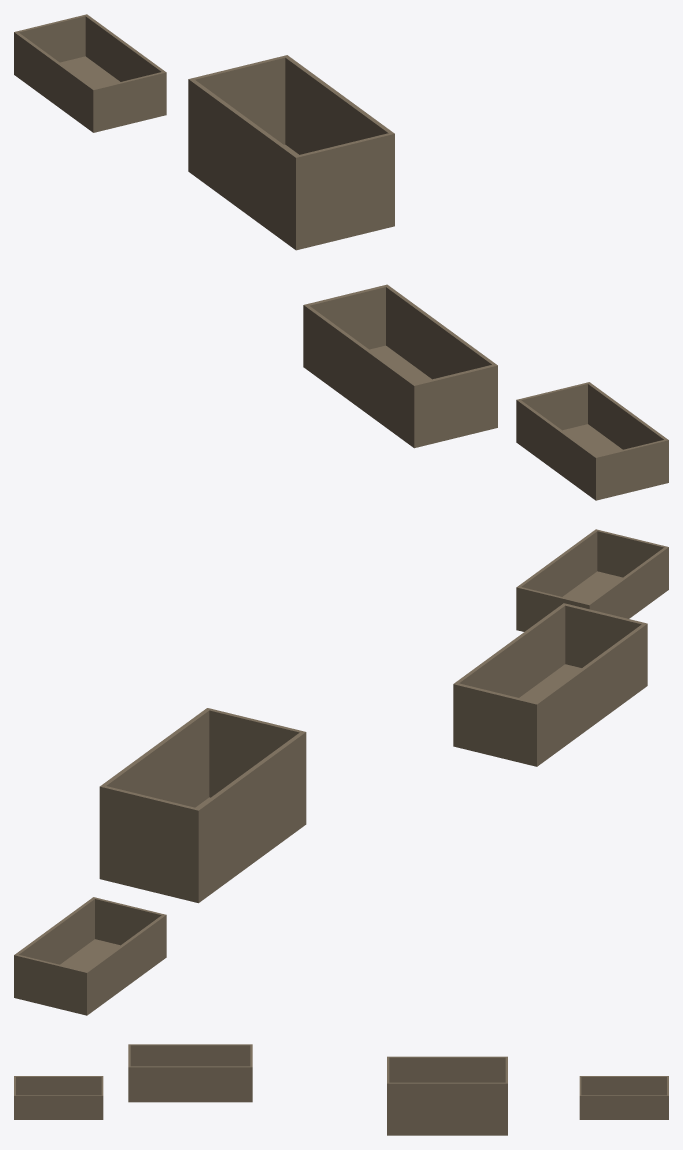
The picture shows the model from 3 angles, top to bottom: view 1: azimuth 30°, elevation 25°; view 2: azimuth 150°, elevation 25°; view 3: azimuth 270°, elevation 25°; orthographic projection. The views are drawn at different scales.
Parts seen in each view (by area): view 1: Cube.031, Cube.042, Cube.035, Cube.047; view 2: Cube.031, Cube.042, Cube.035, Cube.047; view 3: Cube.031, Cube.042, Cube.035, Cube.047.
Part boxes in pixels (x1,y1,x2,y2): Cube.031: (188, 55, 394, 250); Cube.042: (303, 284, 497, 448); Cube.035: (14, 14, 166, 132); Cube.047: (516, 382, 668, 500); Cube.031: (99, 708, 306, 903); Cube.042: (453, 603, 647, 766); Cube.035: (14, 897, 166, 1015); Cube.047: (516, 529, 668, 631); Cube.031: (387, 1056, 507, 1135); Cube.042: (128, 1044, 252, 1102); Cube.035: (579, 1076, 668, 1119); Cube.047: (14, 1076, 103, 1119).
Bounding box in the file's own units: 48.28 × 20.79 × 231.
Materials: 1 (1 with a texture image).
